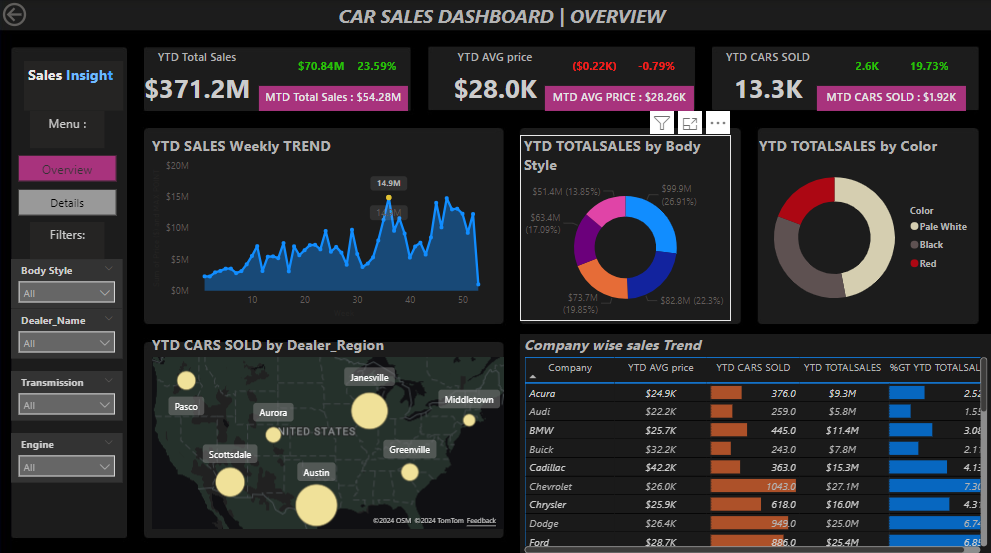

The dashboard page shown, as its layout file describes it:
{"tool":"powerbi","page":{"name":"Overview","canvas":[1280,720],"ordinal":0},"visuals":[{"type":"card","title":"YTD Total Sales","fields":{"Values":["car_data.YTD TOTALSALES"]},"box":[176,64,160,80],"z":0},{"type":"card","fields":{"Values":["car_data.Sales Difference"]},"box":[368,64,96,48],"z":1000},{"type":"card","fields":{"Values":["car_data.YOY Sales Growth"]},"box":[448,64,80,48],"z":2000},{"type":"card","fields":{"Values":["car_data.MTD KPI"]},"box":[336,112,192,32],"z":3000},{"type":"card","title":"YTD AVG price","fields":{"Values":["car_data.YTD AVG price"]},"box":[560,64,160,80],"z":4000},{"type":"card","fields":{"Values":["car_data.AVG PRICE DIFF"]},"box":[720,64,96,48],"z":5000},{"type":"card","fields":{"Values":["car_data.YOY AVG PRICE GROWTH"]},"box":[800,64,96,48],"z":6000},{"type":"card","fields":{"Values":["car_data.MTD AVG PRICE KPI"]},"box":[704,112,192,32],"z":7000},{"type":"card","title":"YTD CARS SOLD","fields":{"Values":["car_data.YTD CARS SOLD"]},"box":[912,64,160,80],"z":8000},{"type":"card","fields":{"Values":["car_data.CARS SOLD DIFF"]},"box":[1072,64,96,48],"z":9000},{"type":"card","fields":{"Values":["car_data.YOY CAR SOLD GROWTH"]},"box":[1152,64,96,48],"z":10000},{"type":"card","fields":{"Values":["car_data.MTD CARS SOLD KPI"]},"box":[1056,112,192,32],"z":11000},{"type":"areaChart","title":"YTD SALES Weekly TREND","fields":{"Category":["calender table.Week"],"Y":["Sum(car_data.Price ($))","car_data.MAX POINT"]},"box":[192,176,448,240],"z":12000},{"type":"donutChart","fields":{"Category":["car_data.Body Style"],"Y":["car_data.YTD TOTALSALES"]},"box":[672,176,272,240],"z":13000},{"type":"donutChart","fields":{"Y":["car_data.YTD TOTALSALES"],"Category":["car_data.Color"]},"box":[976,176,288,240],"z":14000},{"type":"azureMap","fields":{"Category":["car_data.Dealer_Region"],"Size":["car_data.YTD CARS SOLD"]},"box":[192,432,464,256],"z":15000},{"type":"tableEx","title":"Company wise sales Trend","fields":{"Values":["car_data.Company","car_data.YTD AVG price","car_data.YTD CARS SOLD","car_data.YTD TOTALSALES1","car_data.YTD TOTALSALES"]},"box":[672,432,608,288],"z":16000},{"type":"actionButton","box":[0,0,100,40],"z":17000},{"type":"textbox","box":[384,0,528,48],"z":18000},{"type":"slicer","fields":{"Values":["car_data.Body Style"]},"box":[16,336,144,64],"z":19000},{"type":"slicer","fields":{"Values":["car_data.Dealer_Name"]},"box":[16,400,144,64],"z":20000},{"type":"slicer","fields":{"Values":["car_data.Transmission"]},"box":[16,480,144,64],"z":21000},{"type":"slicer","fields":{"Values":["car_data.Engine"]},"box":[16,560,144,64],"z":22000},{"type":"textbox","box":[39.7,287.7,96.4,48.2],"z":23000},{"type":"textbox","box":[32,80,128,64],"z":24000},{"type":"textbox","box":[39.7,144.6,96.4,48.2],"z":26000},{"type":"pageNavigator","box":[24.1,201.3,127.6,79.4],"z":27000}]}

Visuals, with their boxes in screenshot pixels (x1, y1, x2, y2), scaled from the page's 1280x720 canvas onto the 991x553 screenshot:
"YTD Total Sales" card: 136:49:260:111
card - car_data.Sales Difference: 285:49:359:86
card - car_data.YOY Sales Growth: 347:49:409:86
card - car_data.MTD KPI: 260:86:409:111
"YTD AVG price" card: 434:49:557:111
card - car_data.AVG PRICE DIFF: 557:49:632:86
card - car_data.YOY AVG PRICE GROWTH: 619:49:694:86
card - car_data.MTD AVG PRICE KPI: 545:86:694:111
"YTD CARS SOLD" card: 706:49:830:111
card - car_data.CARS SOLD DIFF: 830:49:904:86
card - car_data.YOY CAR SOLD GROWTH: 892:49:966:86
card - car_data.MTD CARS SOLD KPI: 818:86:966:111
"YTD SALES Weekly TREND" areaChart: 149:135:496:320
donutChart - car_data.Body Style x car_data.YTD TOTALSALES: 520:135:731:320
donutChart - car_data.YTD TOTALSALES x car_data.Color: 756:135:979:320
azureMap - car_data.Dealer_Region x car_data.YTD CARS SOLD: 149:332:508:528
"Company wise sales Trend" tableEx: 520:332:990:552
actionButton: 0:0:77:31
textbox: 297:0:706:37
slicer - car_data.Body Style: 12:258:124:307
slicer - car_data.Dealer_Name: 12:307:124:356
slicer - car_data.Transmission: 12:369:124:418
slicer - car_data.Engine: 12:430:124:479
textbox: 31:221:105:258
textbox: 25:61:124:111
textbox: 31:111:105:148
pageNavigator: 19:155:117:216
